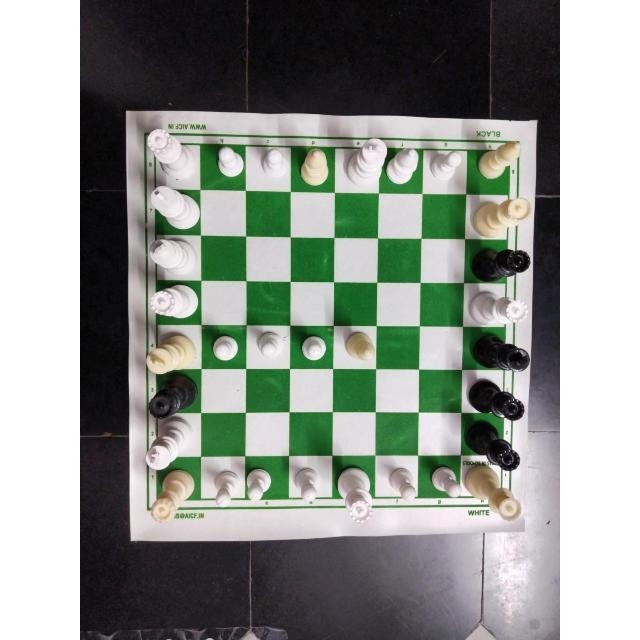black-king: (472, 328, 530, 375)
black-queen: (467, 432, 530, 476), (474, 247, 534, 287), (472, 379, 524, 425), (149, 379, 204, 419)
white-bishop: (477, 136, 521, 183), (342, 324, 377, 368), (300, 143, 335, 186), (390, 143, 422, 187)
white-king: (143, 324, 199, 376), (148, 420, 196, 470), (141, 238, 200, 278), (150, 185, 202, 230), (343, 137, 383, 188)
white-pawn: (254, 143, 292, 184), (430, 462, 462, 510), (428, 149, 463, 188), (295, 332, 332, 368), (387, 466, 421, 505), (291, 466, 324, 506), (213, 468, 241, 514), (215, 145, 248, 183), (245, 464, 270, 512), (206, 332, 241, 363), (257, 328, 288, 359)
white-queen: (465, 461, 529, 526), (471, 189, 533, 236), (470, 286, 534, 327), (143, 282, 212, 320), (338, 459, 378, 523), (150, 476, 198, 524), (142, 131, 192, 175)
